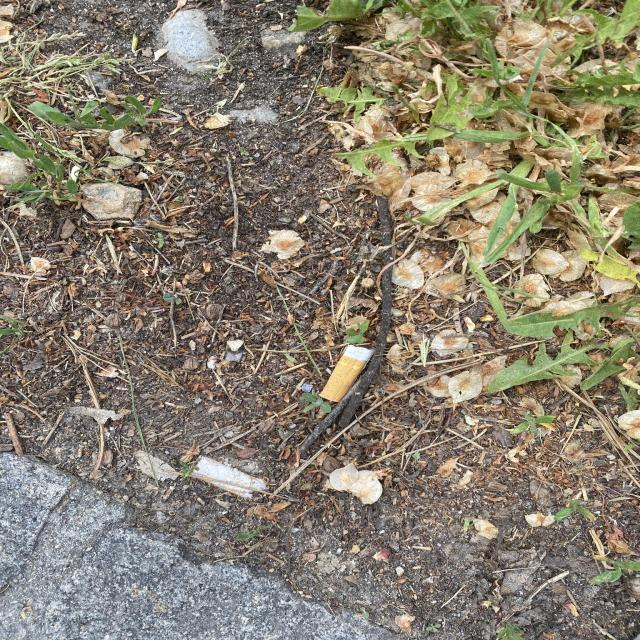other waste: (319, 343, 376, 403), (191, 456, 267, 500)
